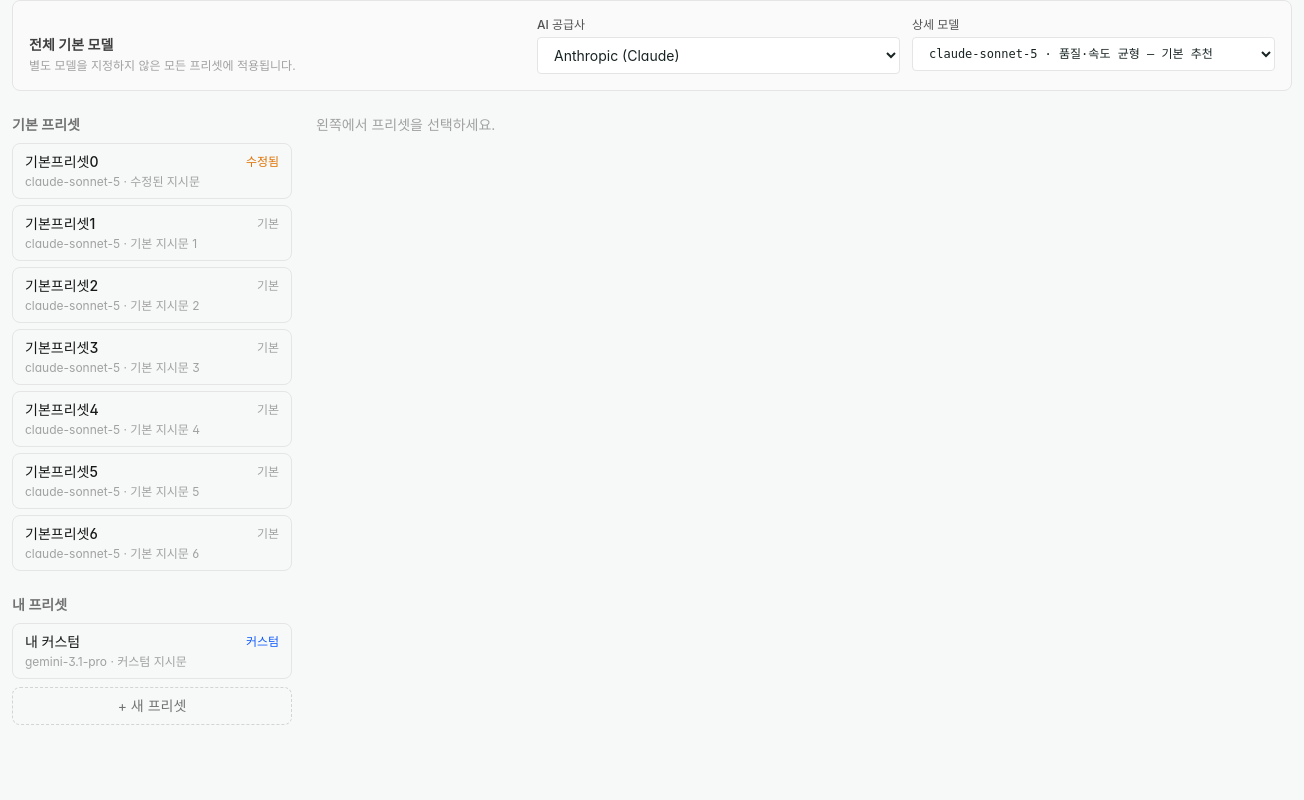
PresetSettings › 커스텀 선택 시 삭제 버튼이 보이고, 빌트인 선택 시 보이지 않는다
The width and height of the screenshot is (1304, 800).
What coordinates should you click on to do the following:
click the button "내 커스텀 커스텀 gemini-3.1-pro · 커스텀 지시문"
I would click on:
 (152, 651)
Its box is [12, 623, 292, 679].
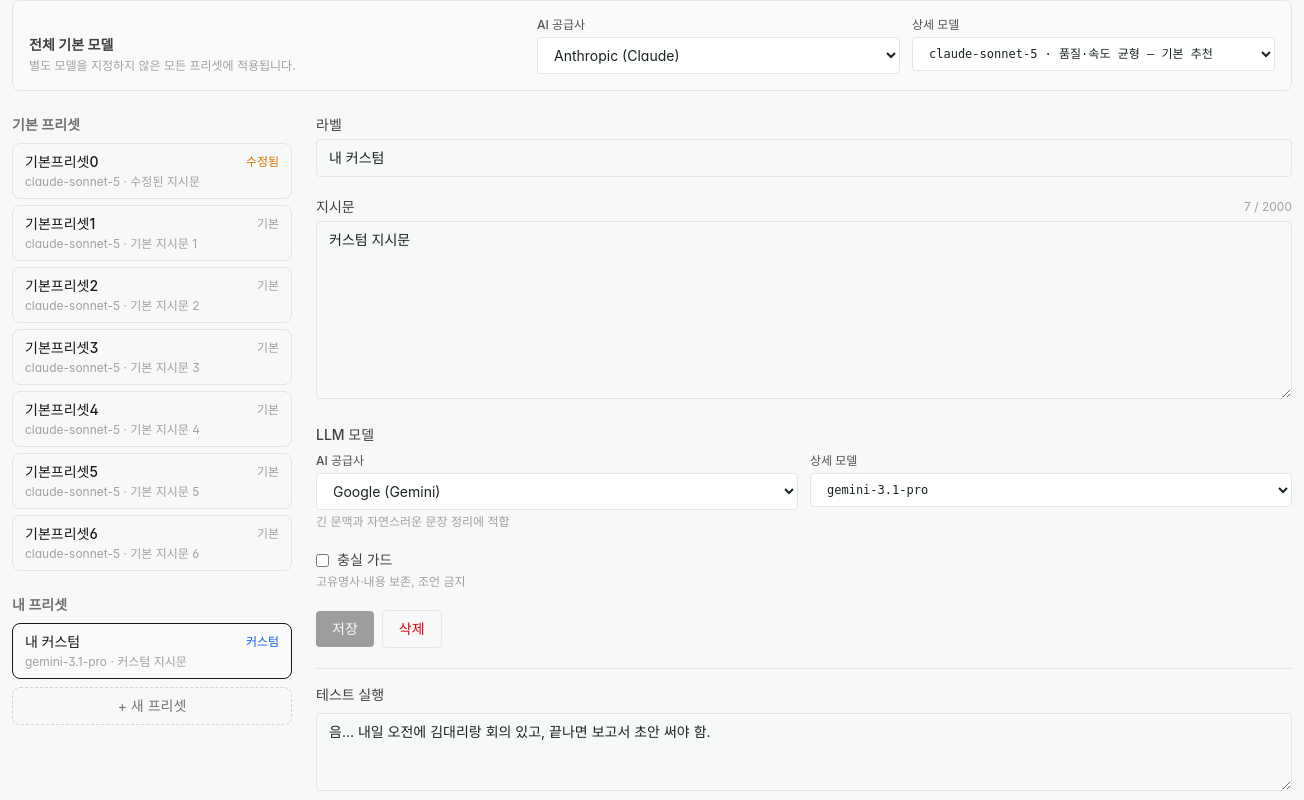
Now the button "삭제" is shown, box [382, 610, 442, 648]
What coordinates should you click on to do the following:
click the button "기본프리셋1 기본 claude-sonnet-5 · 기본 지시문 1"
I would click on:
 (152, 233)
Its box is [12, 205, 292, 261].
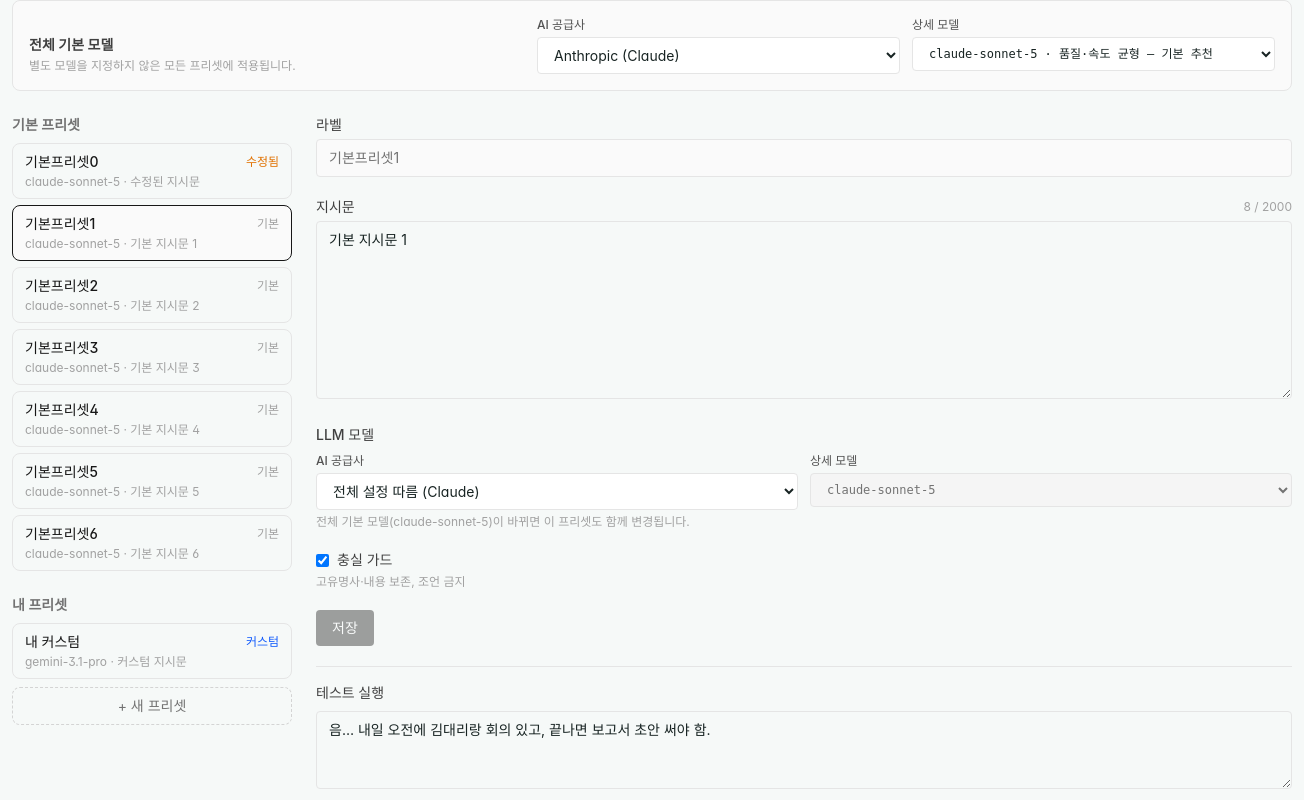
Now the button "삭제" is gone
